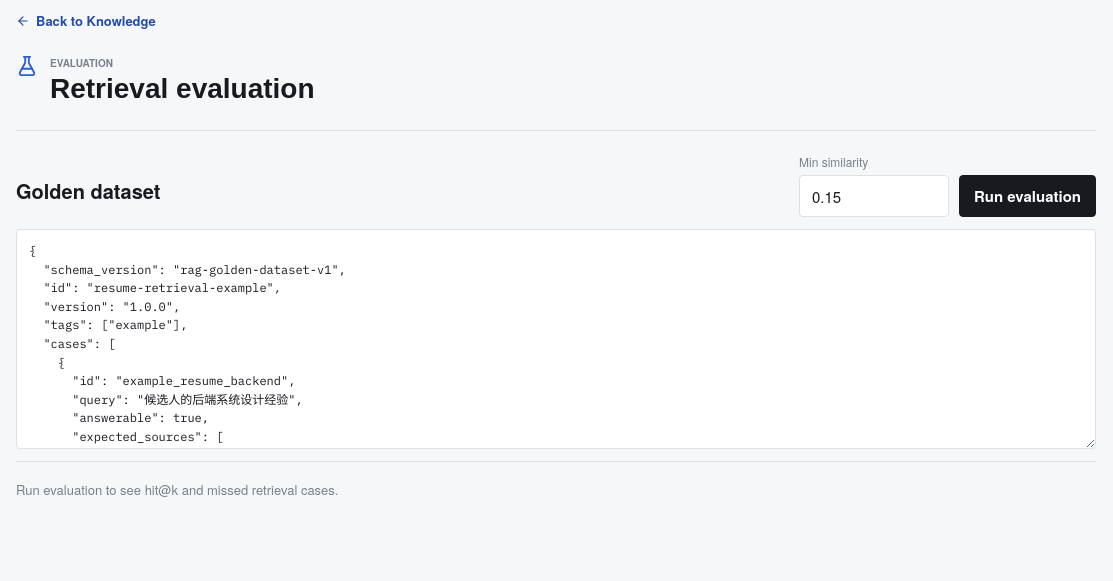
Test: shows evaluation errors on the dedicated page
Click the button "Run evaluation".
click(1028, 196)  # box [959,175,1096,217]
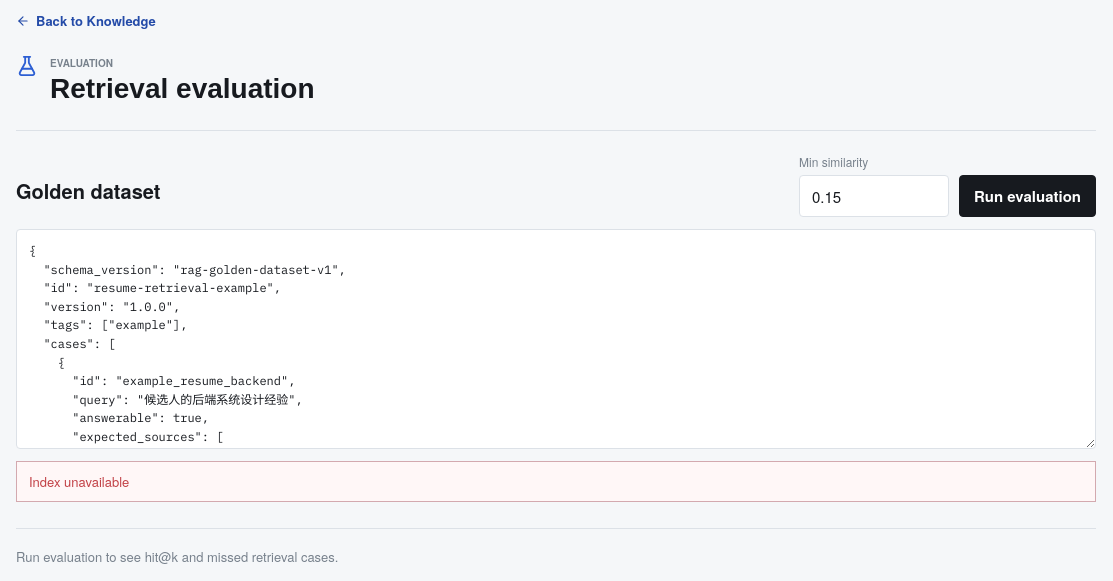
Expected: the message reads "Index unavailable", [29,472,129,491]
